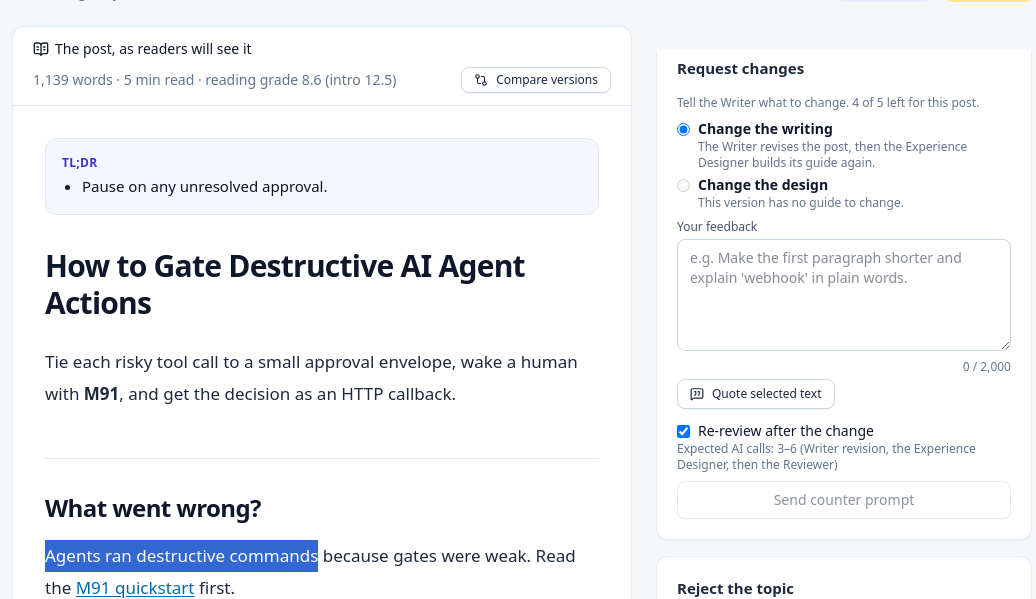
quote capture (selection → exact Markdown source) › in the page: a selected sentence becomes a removable chip; a cross-section selection shows the message
The image size is (1036, 599).
(page scrolled)
Click the button "Quote selected text": (756, 394) [677,379,835,409]
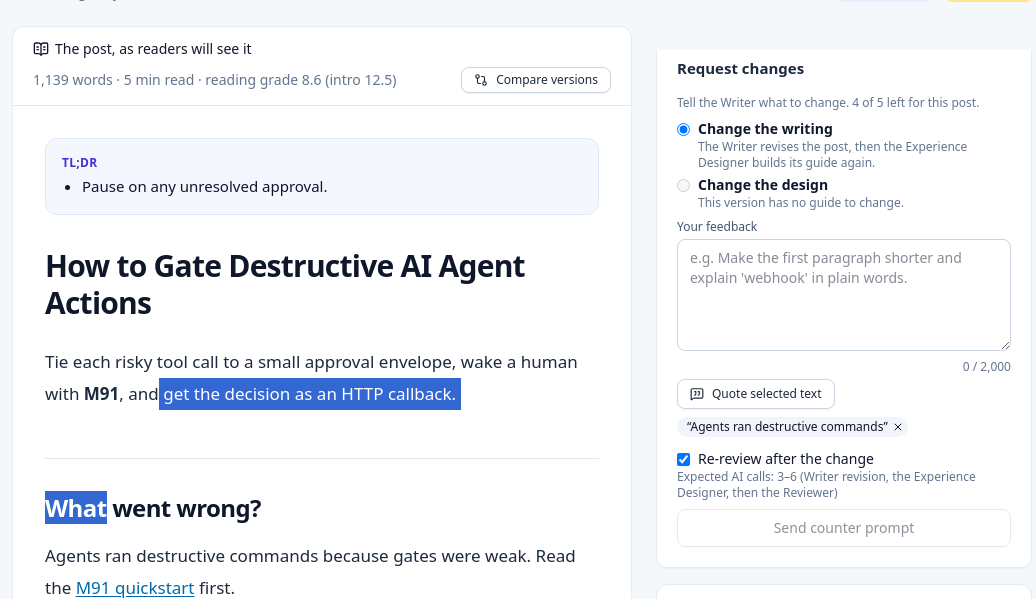
Expected: the list named "Quotes" reads "“Agents ran destructive commands”", [677,417,908,437]
Note: From the first paragraph into the heading (the source has "## " in between): refused.
Click the button "Quote selected text": (756, 394) [677,379,835,409]
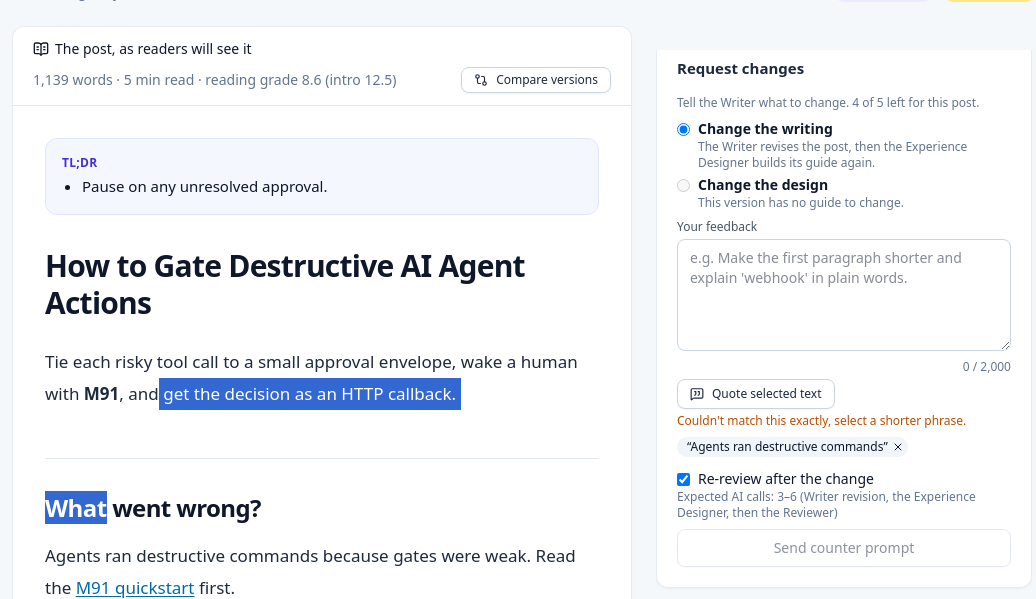
Expected: the text "Couldn't match this exactly, select a shorter phrase." is shown, [677,413,1011,429]
Click the button named "Remove quote": (898, 447) [892,441,904,453]
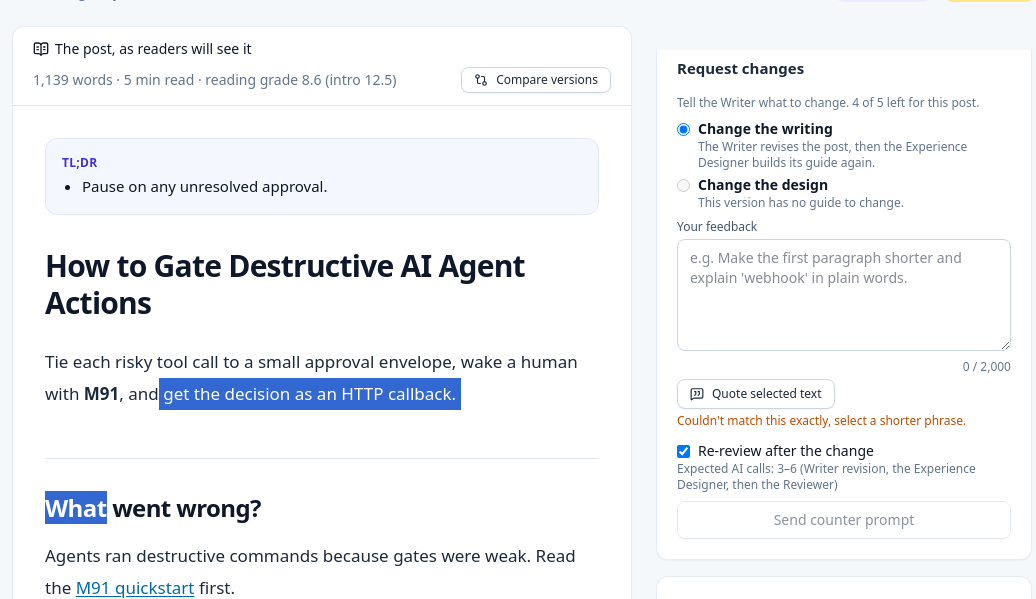
Expected: the list "Quotes" is gone
